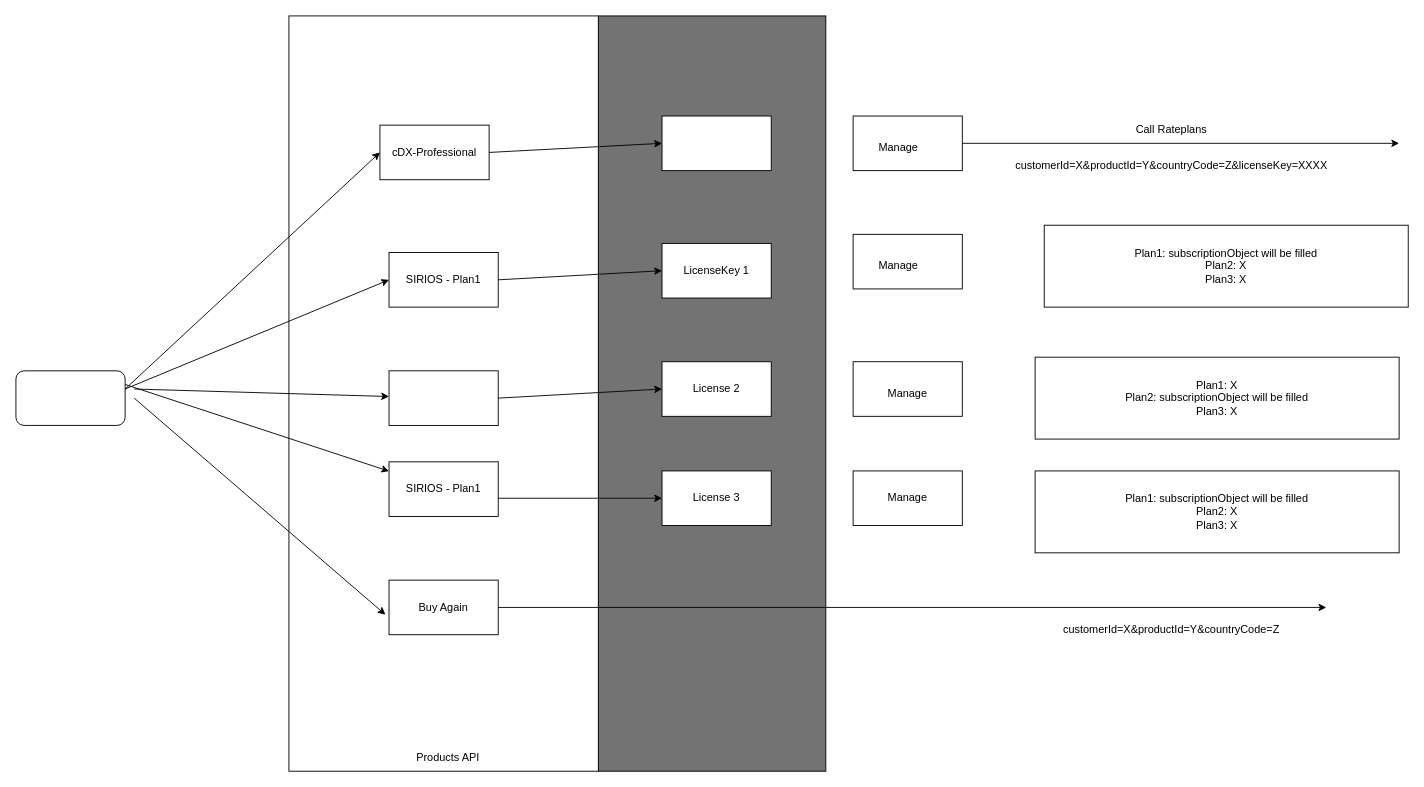
Some shapes in this 1424 by 787 pixel diagram are drawn without their labels. The box of each missing label's shape, as (x1, y1, x2, y2) in pixels:
"LicenseKey 0: (661, 115, 771, 171)
Customer: (15, 370, 125, 425)
SIRIOS - Plan2: (388, 370, 498, 425)
